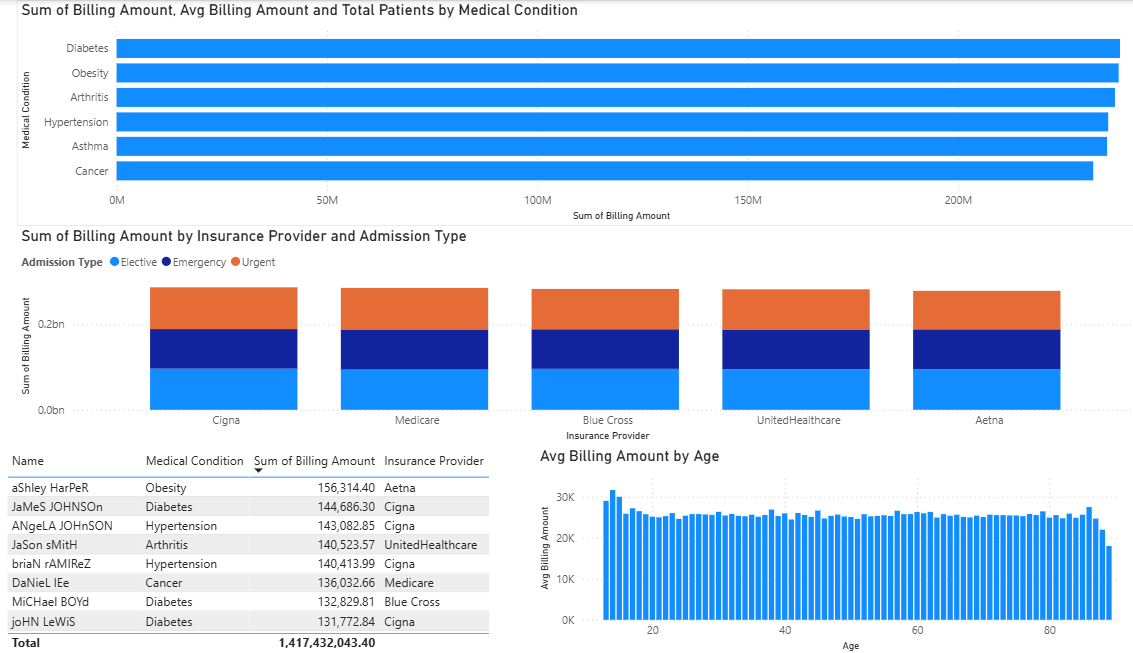

Layout of this report page (visuals, bound fields, positions):
{"tool":"powerbi","page":{"name":"Financial Analysis","canvas":[1280,720],"ordinal":2},"visuals":[{"type":"clusteredBarChart","fields":{"Category":["healthcare_dataset (2).Medical Condition"],"Y":["Sum(healthcare_dataset (2).Billing Amount)"]},"box":[26.1,0,1239.1,248.4],"z":0},{"type":"columnChart","fields":{"Category":["healthcare_dataset (2).Insurance Provider"],"Y":["Sum(healthcare_dataset (2).Billing Amount)"],"Series":["healthcare_dataset (2).Admission Type"]},"box":[26.1,248.4,1240.5,241.5],"z":1000},{"type":"tableEx","fields":{"Values":["healthcare_dataset (2).Name","healthcare_dataset (2).Medical Condition","Sum(healthcare_dataset (2).Billing Amount)","healthcare_dataset (2).Insurance Provider"]},"box":[9.6,489.9,1235,230.5],"z":2000},{"type":"columnChart","fields":{"Category":["healthcare_dataset (2).Age"],"Y":["healthcare_dataset (2).Avg Billing Amount"]},"box":[595.5,489.9,649.1,230.5],"z":3000}]}

Visuals, with their boxes in screenshot pixels (x1, y1, x2, y2), scaled from the page's 1280x720 canvas onto the 1133x653 screenshot:
clusteredBarChart - healthcare_dataset (2).Medical Condition x Sum(healthcare_dataset (2).Billing Amount): bbox=(23, 0, 1120, 225)
columnChart - healthcare_dataset (2).Insurance Provider x Sum(healthcare_dataset (2).Billing Amount): bbox=(23, 225, 1121, 444)
tableEx - healthcare_dataset (2).Name x healthcare_dataset (2).Medical Condition: bbox=(8, 444, 1102, 652)
columnChart - healthcare_dataset (2).Age x healthcare_dataset (2).Avg Billing Amount: bbox=(527, 444, 1102, 652)
